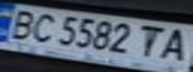2: (109, 20, 139, 56)
5: (51, 14, 81, 47), (72, 16, 96, 51)
8: (90, 18, 115, 53)
A: (154, 25, 193, 63)
B: (0, 7, 42, 39)
C: (21, 10, 60, 44)
T: (133, 21, 172, 60)
